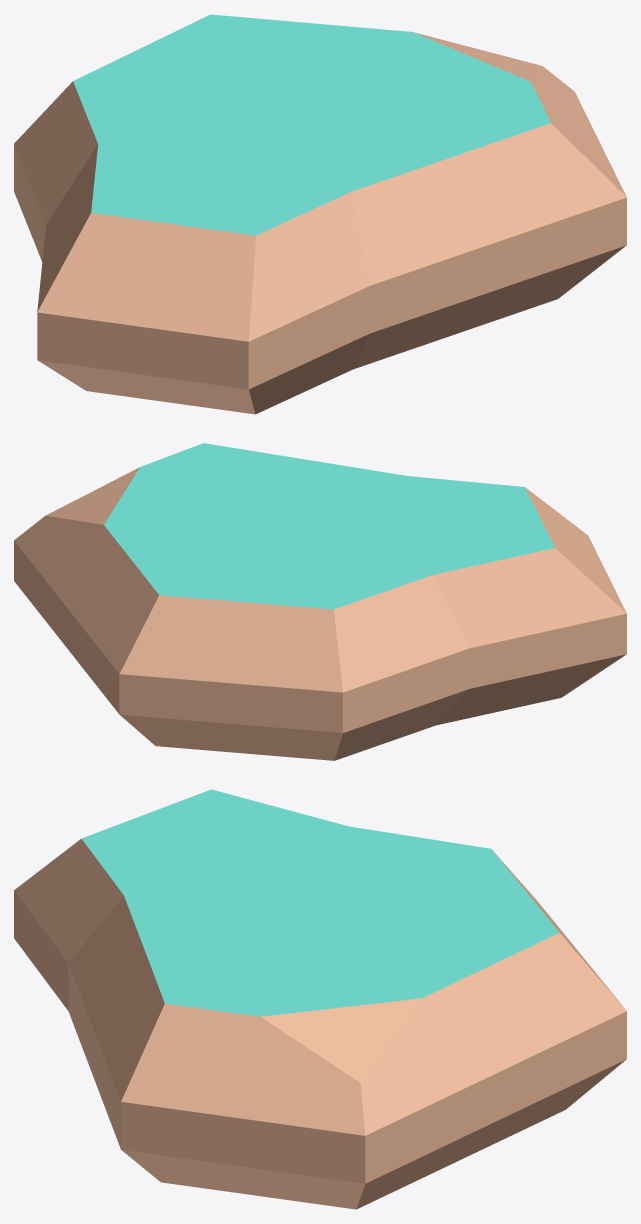
Rendered from rock_largeE.glb.
3 views of the same model, one above another, from view 1: azimuth 30°, elevation 25°; view 2: azimuth 150°, elevation 25°; view 3: azimuth 270°, elevation 25° (orthographic). The views are drawn at different scales.
Parts seen in each view (by area): view 1: rock_largeE; view 2: rock_largeE; view 3: rock_largeE.
Boxes of the visible parts, x1,y1,x2,y2 form: rock_largeE: (14, 14, 626, 414); rock_largeE: (14, 443, 626, 760); rock_largeE: (14, 789, 626, 1209).
Size of the model in its own units: 1.1 by 0.2922 by 0.9199.
